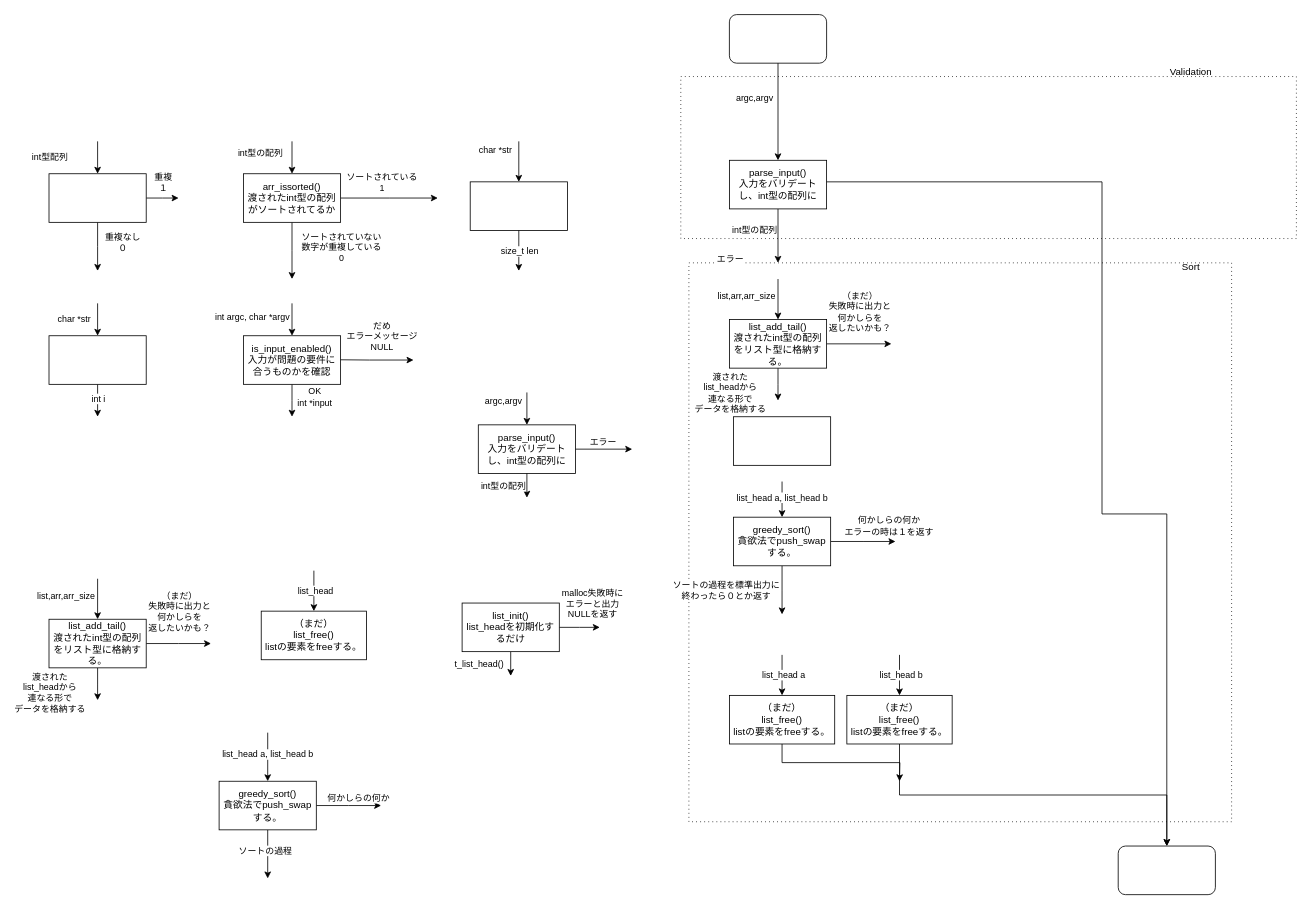
The diagram is 1311 pixels wide and 909 high, and some of its shapes have lost their labels. The shapes that lost their labels are listed below. From the top down, each one's box as (x1, y1, x2, y2) in pixels, then its label:
(729, 14, 827, 63): Start
(48, 173, 146, 222): arr_isdup() ソートされたint型の配列の重複チェック
(469, 181, 567, 230): ft_strlen() 入力の文字列の長さを返す
(48, 335, 146, 384): ft_atoi() 入力の文字列をint型の数字に変換する
(733, 416, 831, 465): arrをfree list_head bを用意
(1117, 845, 1215, 895): End
